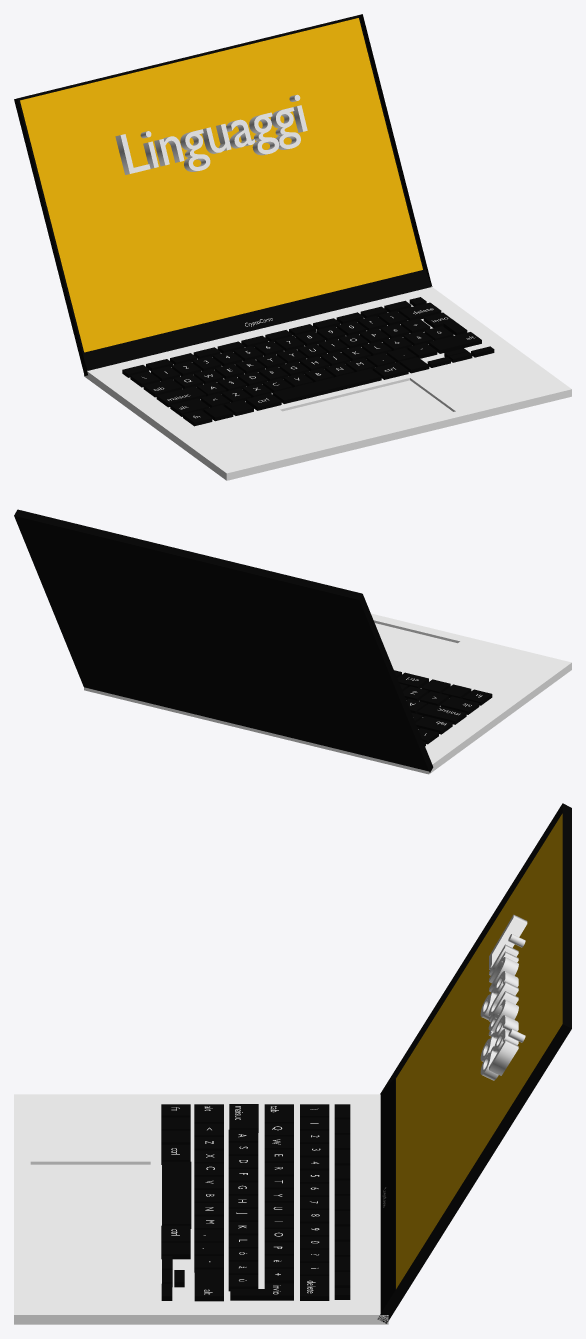
The model's file is linguaggi.glb.
The picture shows the model from 3 angles, top to bottom: view 1: azimuth 30°, elevation 25°; view 2: azimuth 150°, elevation 25°; view 3: azimuth 270°, elevation 25°; orthographic projection. The views are drawn at different scales.
Visible parts, largest first — view 1: Cube.073, Cube, Cube.074, Text, Cube.001, Cube.072, Cube.123; view 2: Cube.001, Cube, Cube.065, Cube.064, Cube.066, Cube.071; view 3: Cube, Cube.073, Cube.001, Text, Cube.074, Cube.072, Cube.123, Cube.065, Cube.027.
Part boxes in pixels (x1,y1,x2,y2): Cube.073: [20, 18, 422, 352]; Cube: [84, 286, 571, 480]; Cube.074: [82, 269, 431, 370]; Text: [115, 94, 307, 174]; Cube.001: [14, 14, 432, 375]; Cube.072: [272, 368, 381, 403]; Cube.123: [428, 332, 481, 353]; Cube.001: [14, 509, 433, 772]; Cube: [84, 613, 571, 774]; Cube.065: [417, 703, 466, 724]; Cube.064: [440, 696, 479, 714]; Cube.066: [415, 716, 452, 734]; Cube.071: [397, 672, 428, 688]; Cube: [14, 1094, 388, 1324]; Cube.073: [396, 813, 562, 1288]; Cube.001: [377, 803, 571, 1323]; Text: [480, 914, 527, 1080]; Cube.074: [380, 1077, 396, 1313]; Cube.072: [162, 1161, 191, 1228]; Cube.123: [194, 1269, 223, 1301]; Cube.065: [229, 1104, 258, 1132]; Cube.027: [300, 1276, 329, 1300].
Bounding box in the file's own units: 6.79 × 4.31 × 7.25.
